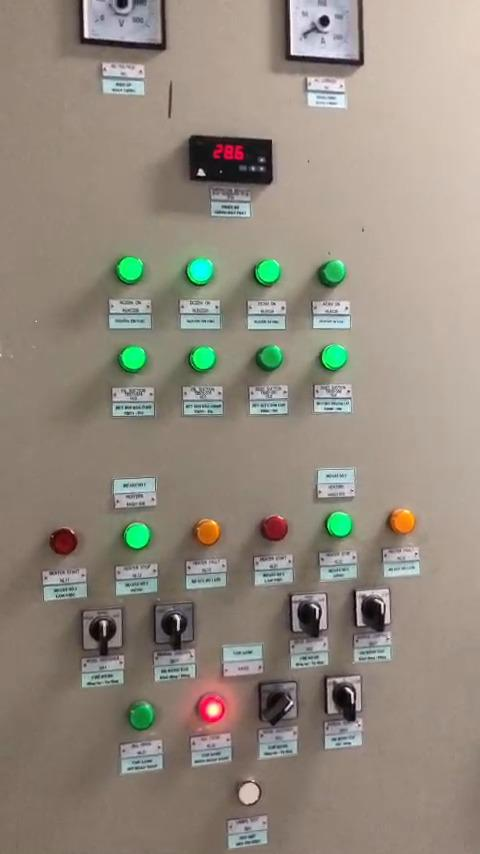led: (123, 702, 156, 735), (48, 526, 80, 556), (198, 698, 229, 728), (319, 258, 349, 288), (188, 255, 218, 284), (259, 514, 288, 544), (388, 509, 416, 539), (319, 342, 346, 373), (324, 510, 351, 540), (194, 518, 221, 548), (117, 256, 144, 285), (257, 344, 284, 373), (255, 259, 284, 285), (124, 521, 150, 550), (190, 345, 219, 370), (234, 781, 263, 805), (118, 345, 144, 370)
twist: (80, 609, 123, 654), (260, 681, 300, 726), (155, 604, 194, 648), (289, 596, 329, 638), (355, 589, 393, 629), (328, 678, 364, 720)
